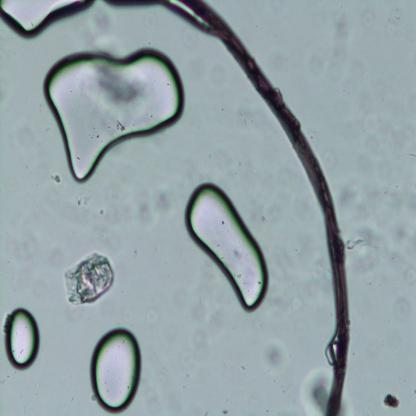Air bubble: (43, 45, 185, 185), (184, 183, 270, 313), (92, 322, 143, 414), (0, 0, 99, 38), (4, 304, 41, 372)
Background material: (340, 183, 416, 310), (65, 246, 117, 309), (355, 83, 396, 158), (311, 2, 349, 82), (135, 188, 173, 228), (303, 364, 332, 414), (14, 218, 39, 262), (252, 339, 284, 369), (320, 144, 344, 178), (358, 6, 378, 34), (308, 260, 326, 285), (286, 294, 306, 315), (384, 393, 401, 409), (94, 202, 106, 220), (48, 173, 62, 186)
Microfibre: (180, 0, 352, 415)
